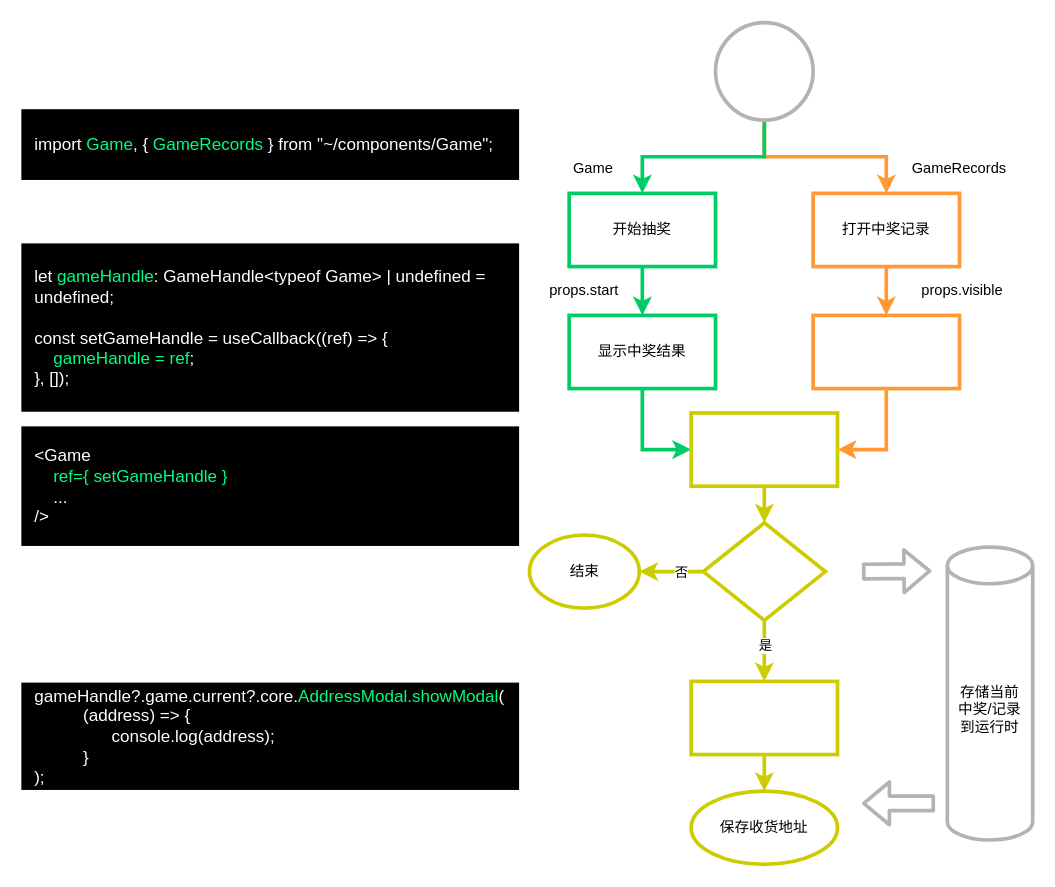
This 1055x887 diagram has some shape labels left out. Here are the shapes that lost their labels. From the top down, the box of each, then its label:
(713, 20, 814, 121): 游戏模块
(811, 313, 961, 390): 选择中奖条目
(689, 411, 839, 487): 操作中奖结果/记录
(701, 520, 827, 622): 是否需要 填写地址
(689, 679, 839, 756): 弹出地址收集表单
